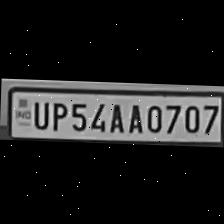0: (142, 100, 164, 133), (180, 100, 200, 133)
4: (86, 98, 106, 132)
5: (66, 97, 88, 131)
7: (199, 100, 219, 134), (162, 99, 180, 133)
A: (105, 98, 125, 132), (125, 99, 143, 134)
P: (47, 97, 66, 130)
U: (29, 97, 49, 128)
